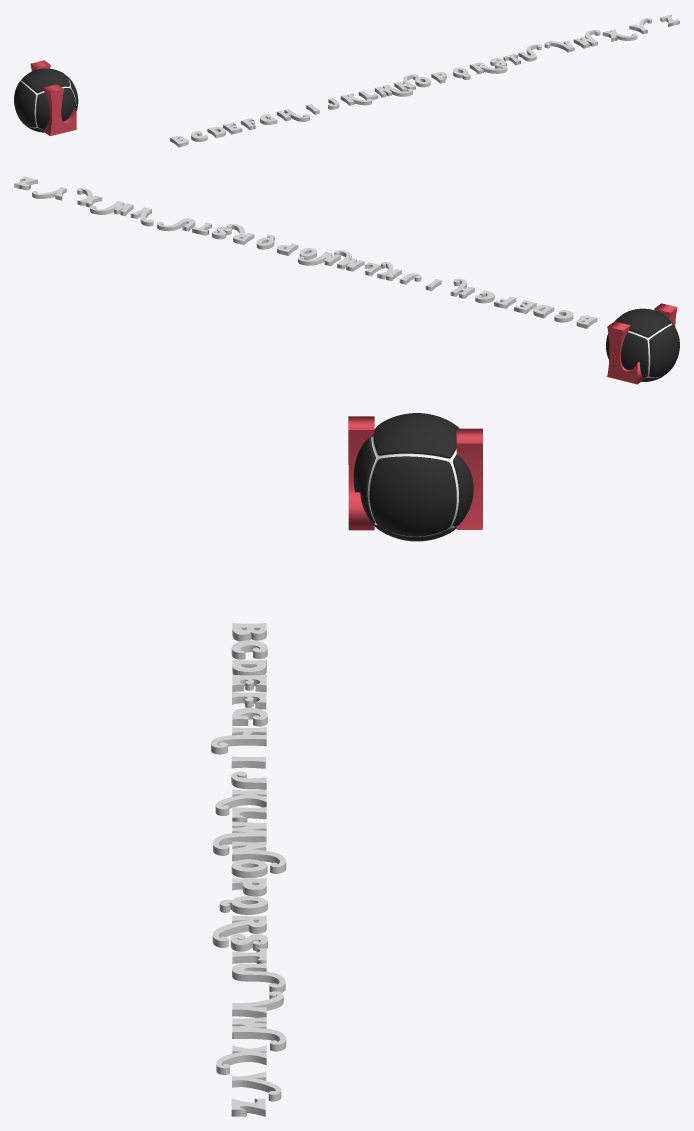
3 views of the same model, one above another, from view 1: azimuth 30°, elevation 25°; view 2: azimuth 150°, elevation 25°; view 3: azimuth 270°, elevation 25° (orthographic). The views are drawn at different scales.
Parts seen in each view (by area): view 1: Cube.001, A, M, W, R, H, X, N, U, K, V; view 2: Cube.001, A.001, W, N, M, U; view 3: Cube.001, A.001, A, W, M, N.
Boxes of the visible parts, box(x1,y1,x2,y2) form: Cube.001: box(14, 68, 78, 132); A: box(43, 84, 76, 135); M: box(374, 84, 412, 97); W: box(573, 29, 600, 48); R: box(469, 62, 507, 74); H: box(276, 108, 309, 121); X: box(602, 29, 637, 41); N: box(394, 74, 418, 91); U: box(518, 44, 541, 61); K: box(340, 93, 371, 105); V: box(544, 40, 574, 52); Cube.001: box(606, 308, 679, 381); A.001: box(607, 321, 644, 384); W: box(90, 201, 133, 216); N: box(298, 252, 340, 266); M: box(334, 250, 364, 271); U: box(157, 218, 195, 231); Cube.001: box(353, 413, 473, 541); A.001: box(456, 428, 482, 529); A: box(348, 416, 374, 530); W: box(232, 1017, 286, 1051); M: box(213, 821, 266, 855); N: box(232, 841, 286, 873).
Size of the model in its own units: 1885 by 185 by 361.
